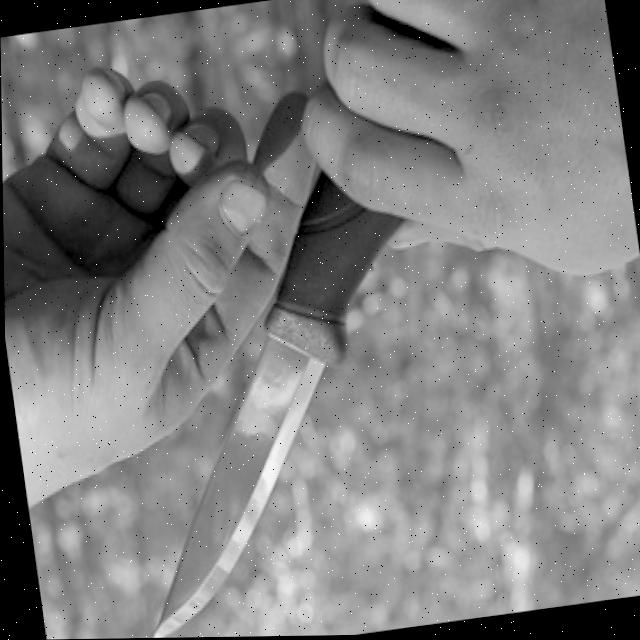knife: (95, 214, 450, 639)
